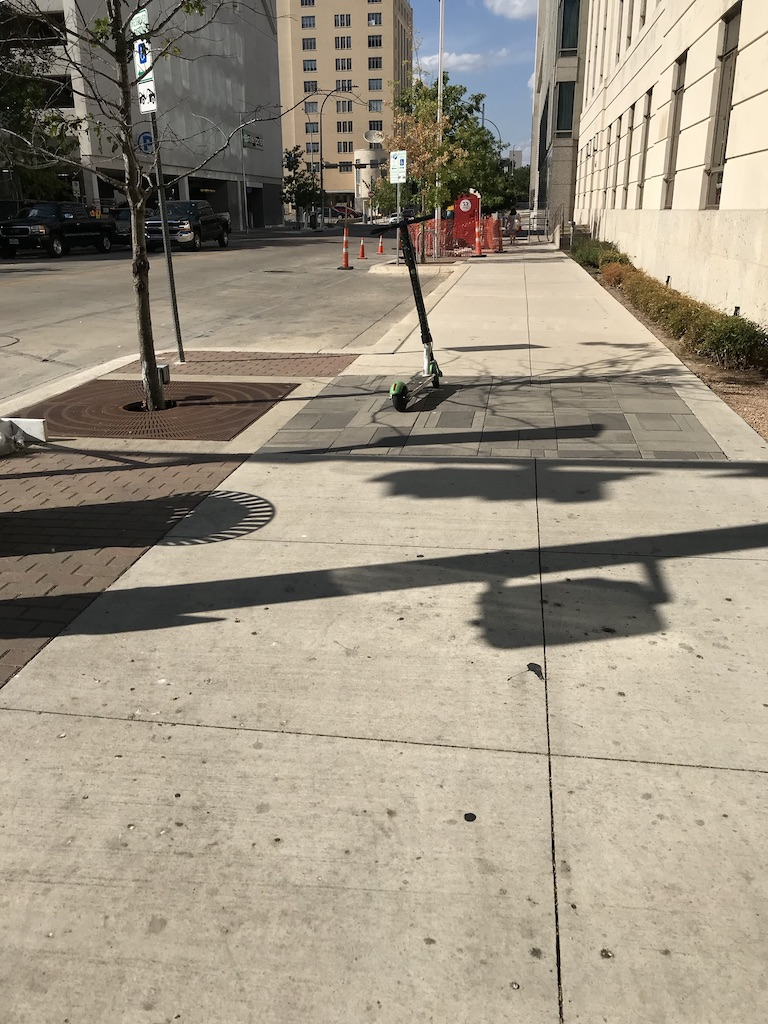scooter: (370, 215, 442, 415)
